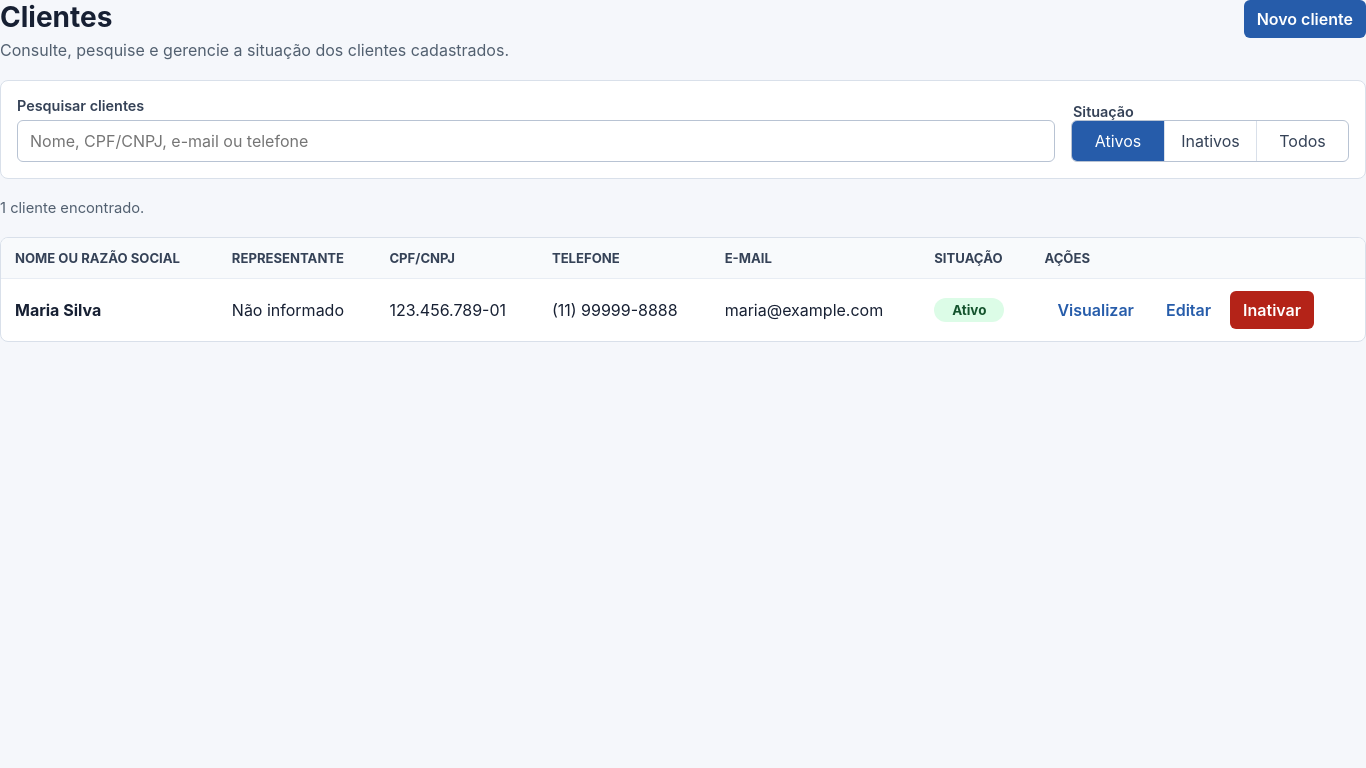
Test: CustomerListPage › opens confirmation before inactivation
Step 1. Click the button with aria-label "Inativar cliente Maria Silva" → [1272, 310], box [1230, 291, 1314, 329]
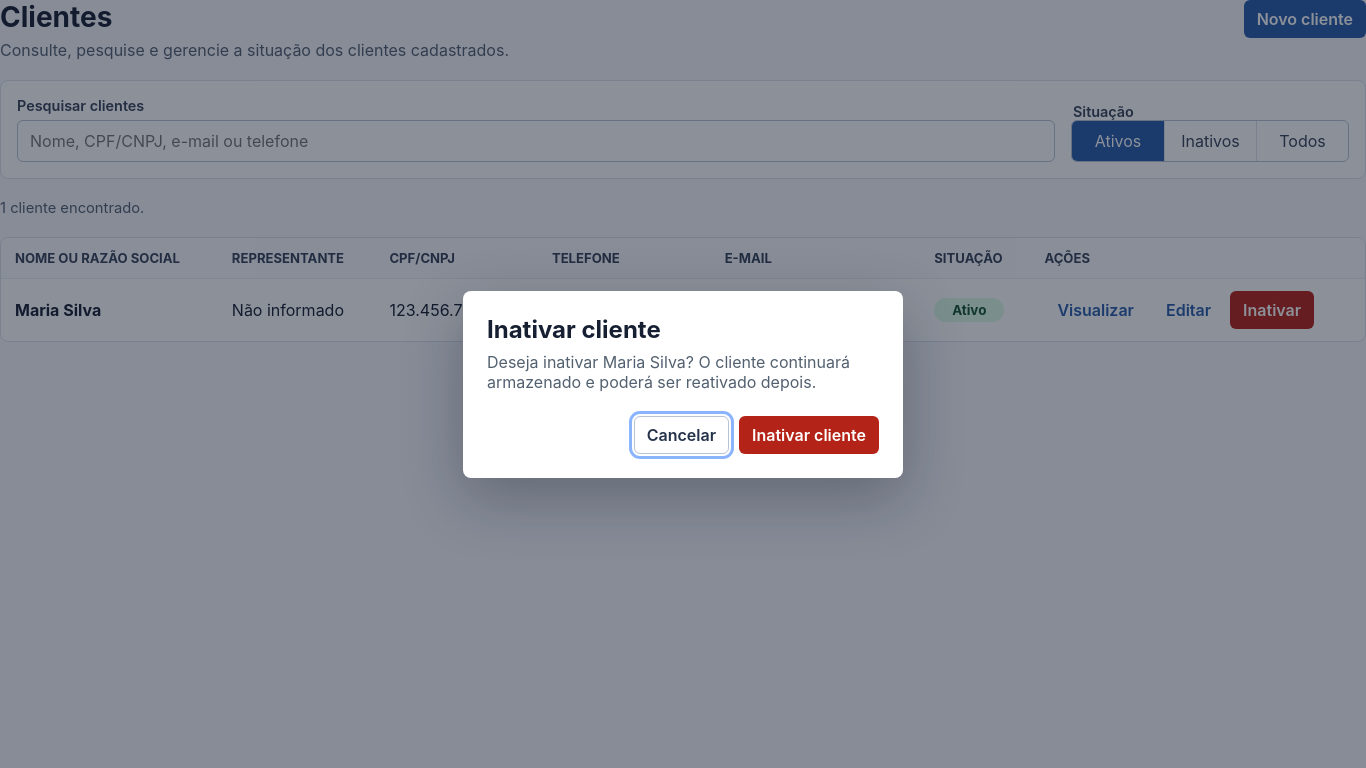
Result: the dialog "Inativar cliente" is shown at [463, 290, 903, 478]
Result: the text "continuará armazenado" is shown at [487, 352, 850, 392]
